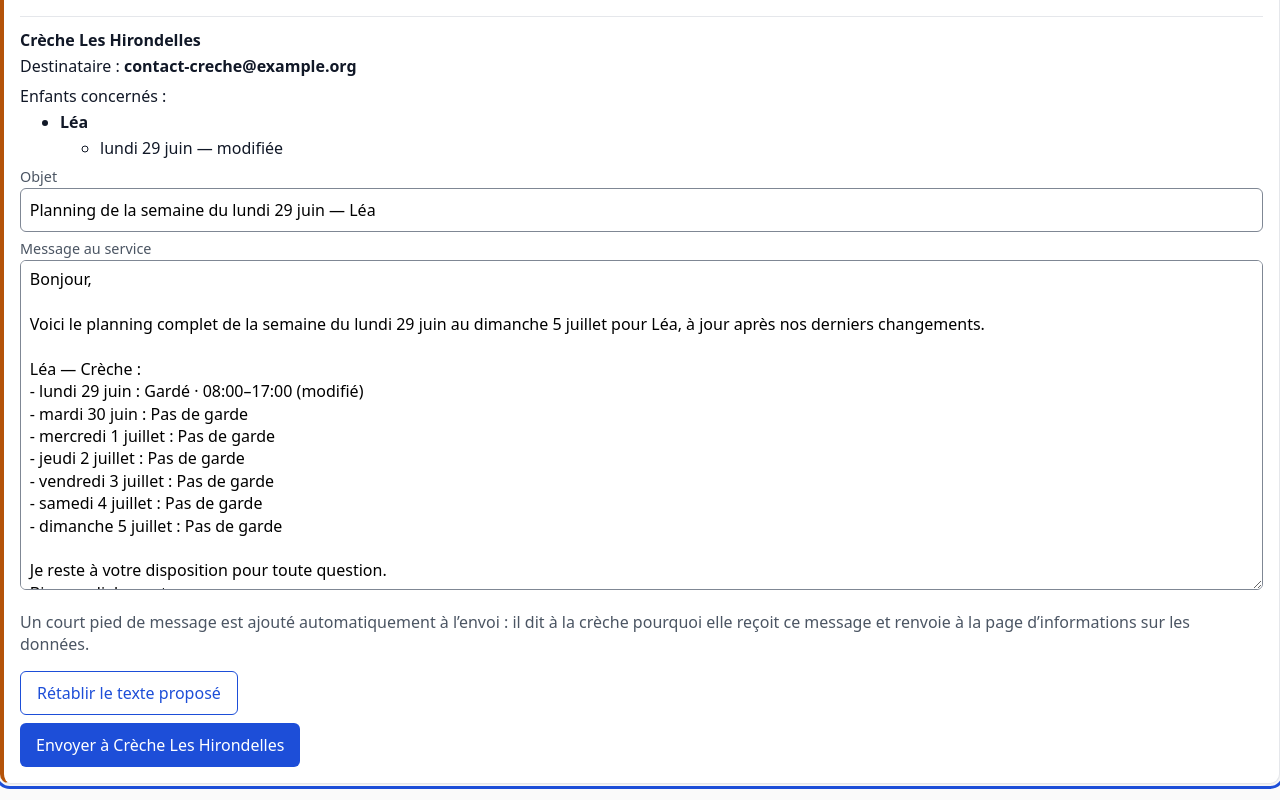
RelectureEnvoi (agrégé par établissement) › avertit d’une action irréversible quand l’envoi serait réel
(page scrolled)
Click the button with aria-label "Envoyer le récapitulatif à Crèche Les Hirondelles" at coordinates (160, 745), box [20, 723, 300, 767]
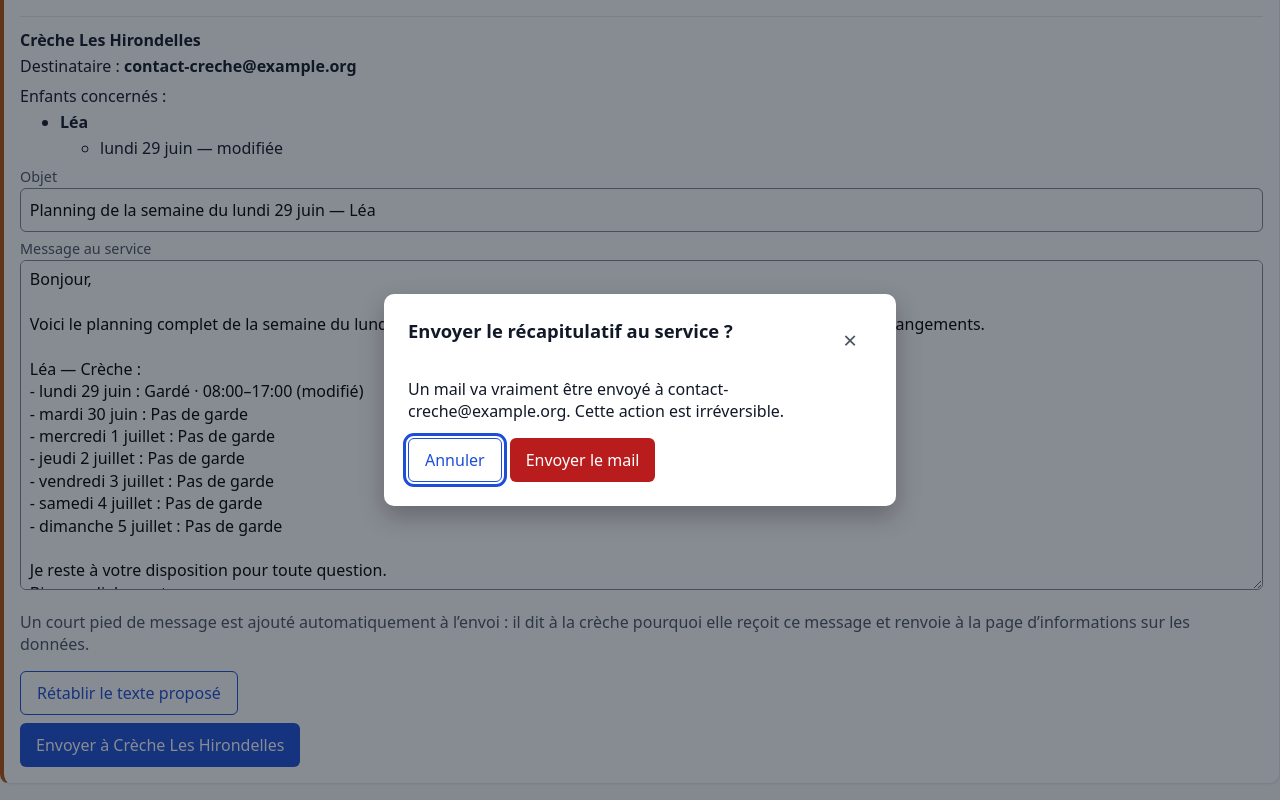
Check: the text "action est irréversible" is shown, box [408, 378, 784, 422]
Check: the button "Envoyer le mail" is shown, box [510, 438, 655, 482]
